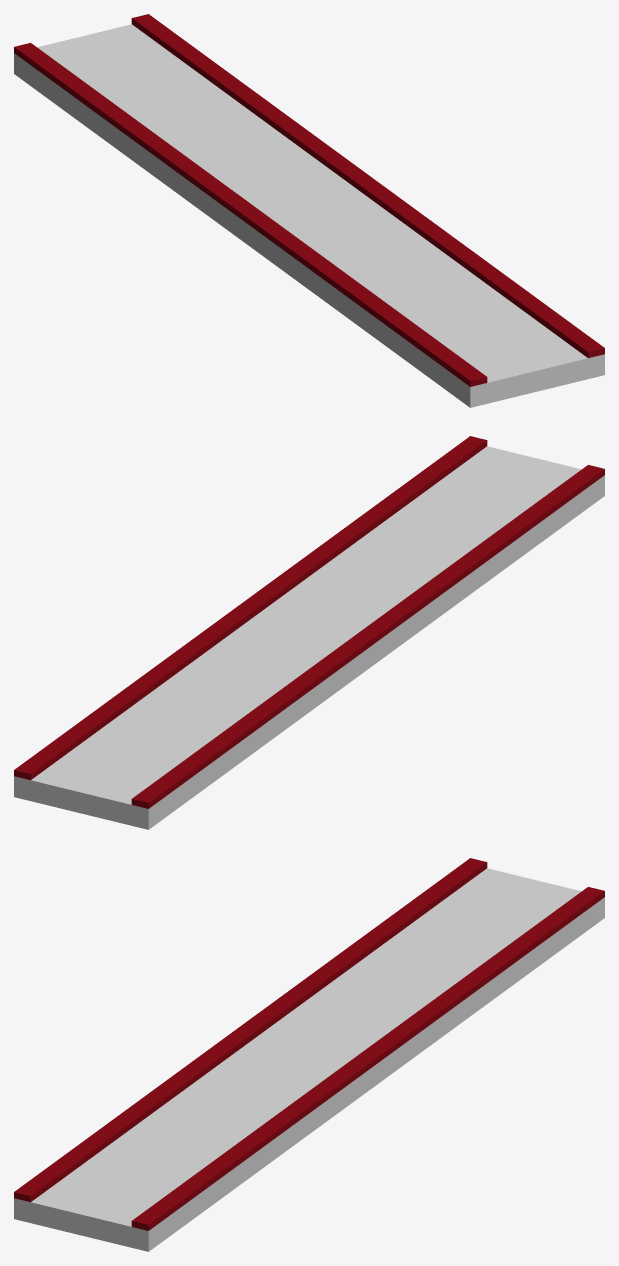
Rendered from YanDuzYol.fbx.
3 renders of one model, top to bottom at view 1: azimuth 30°, elevation 25°; view 2: azimuth 150°, elevation 25°; view 3: azimuth 330°, elevation 25°, orthographic.
Visible parts, largest first — view 1: DuzYol; view 2: DuzYol; view 3: DuzYol.
Part boxes in pixels (x1,y1,x2,y2): DuzYol: [14, 14, 604, 407]; DuzYol: [14, 436, 604, 829]; DuzYol: [14, 858, 604, 1251].
Size of the model in its own units: 2 by 0.3838 by 11.74.
